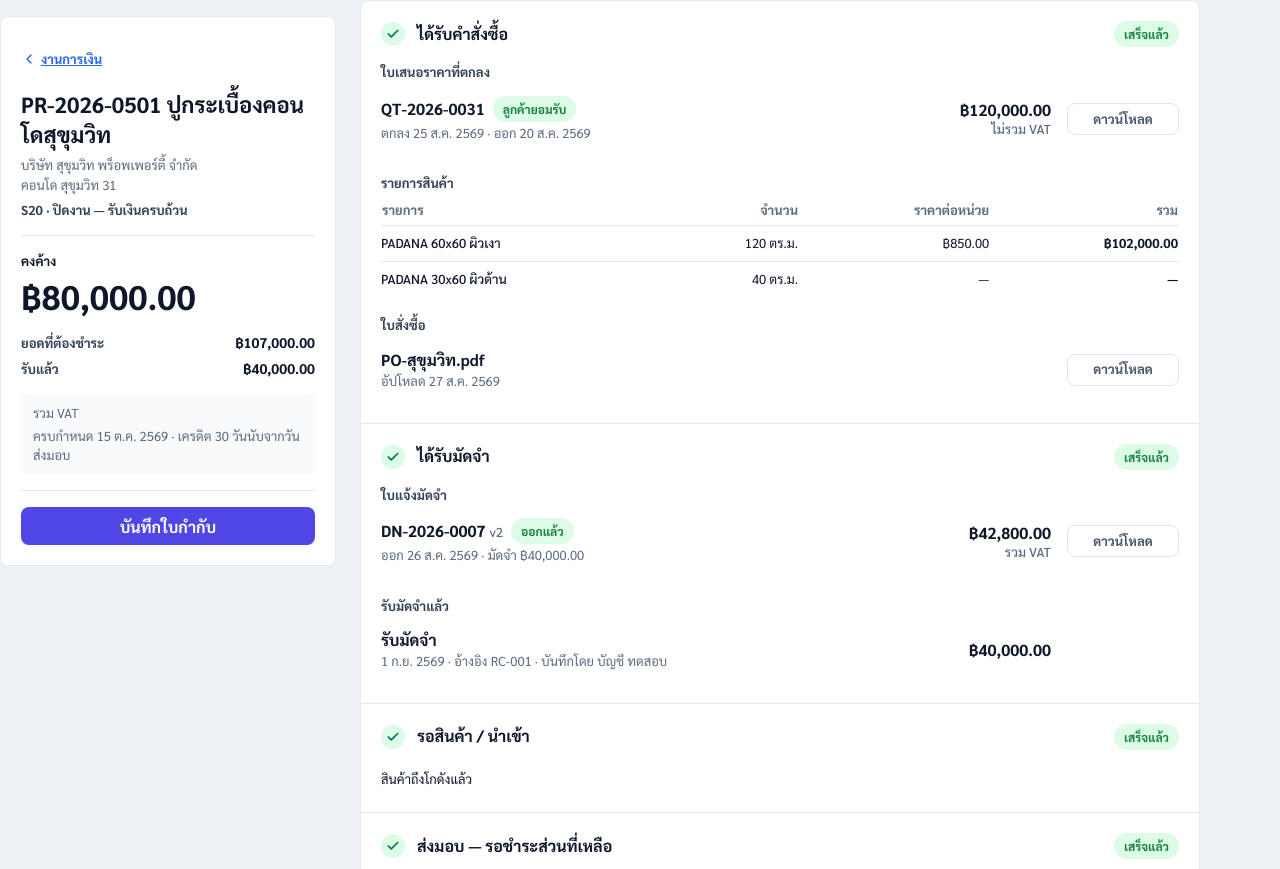
Test case: FinanceDealPage › RECORD_INVOICE (invoice recording in-page, VAT-inclusive amount received default) › clicking it opens an in-page form (no navigation to /commissions) whose amount received defaults to the VAT-INCLUSIVE payable (QA-02)
The image size is (1280, 869).
Click the button "บันทึกใบกำกับ". click: x=168, y=526
box: [21,507,315,545]
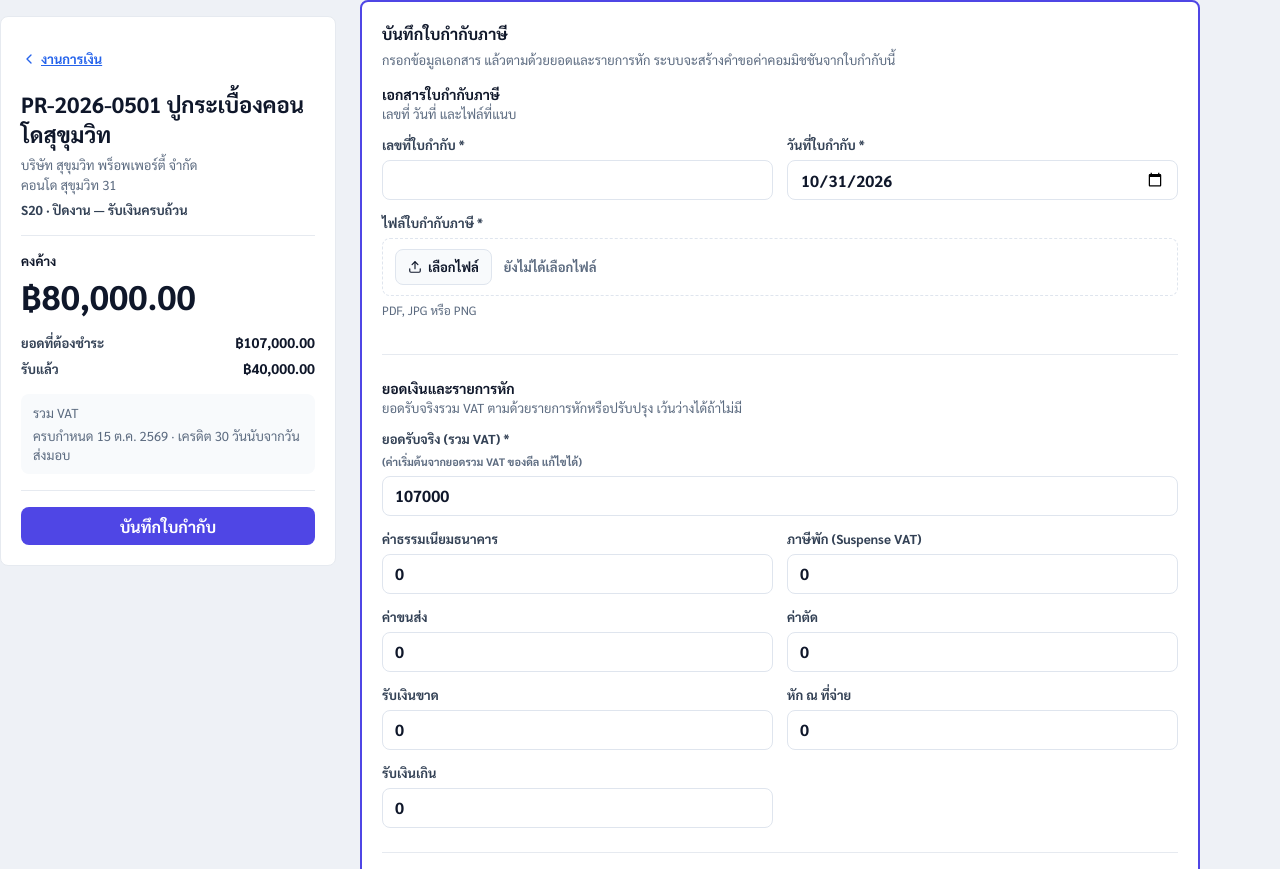
Expected: the number field labelled "ยอดรับจริง (รวม VAT)" holds "107000", [382,476,1178,516]
Expected: the number field labelled "ยอดรับจริง (รวม VAT)" does not hold "100000", [382,476,1178,516]
Expected: the field labelled "เลขที่ใบกำกับ *" is shown, [382,160,773,200]
